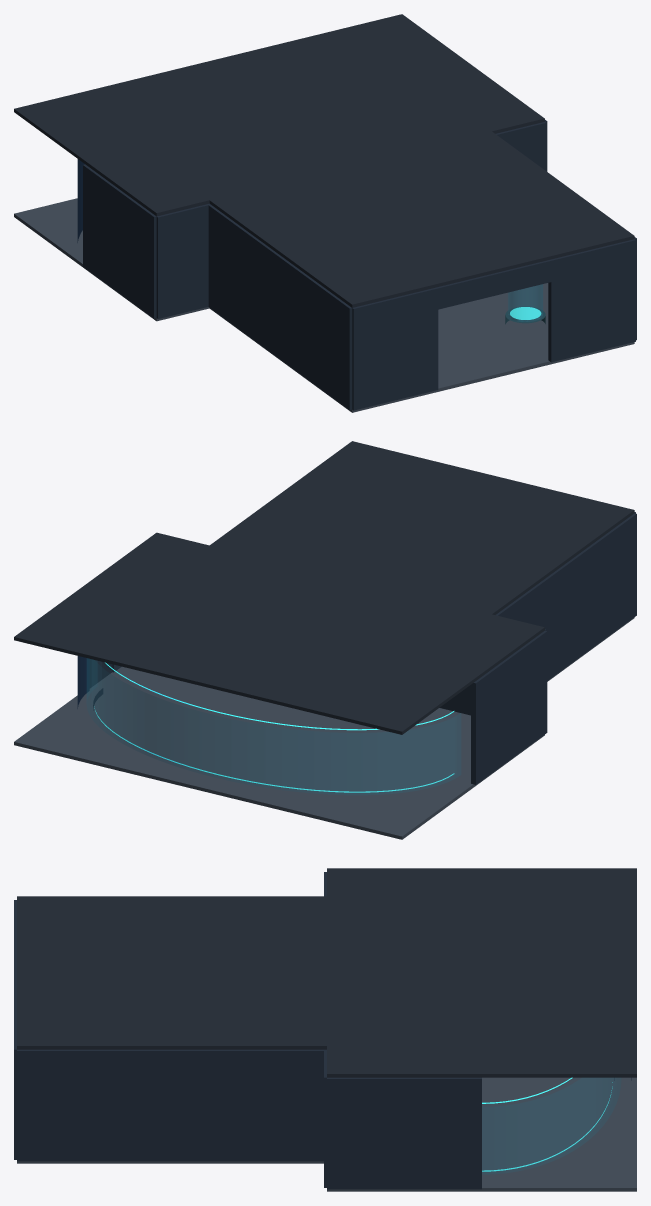
File: aquarium_jelly_basement.glb
3 views of the same model, one above another, from view 1: azimuth 30°, elevation 25°; view 2: azimuth 150°, elevation 25°; view 3: azimuth 270°, elevation 25° (orthographic). The views are drawn at different scales.
Visible parts, largest first — view 1: Ceiling, ReceptionWall, ReceptionFloor, TankWaterJellyCylinder; view 2: Ceiling, ReceptionFloor, TankWaterJellyCylinder, ReceptionWall, EmissiveJellyBlue; view 3: Ceiling, ReceptionWall, ReceptionFloor, TankWaterJellyCylinder.
Part boxes in pixels (left/top/right/bottom): Ceiling: left=14, top=14, right=634, bottom=307; ReceptionWall: left=83, top=120, right=636, bottom=410; ReceptionFloor: left=14, top=198, right=634, bottom=412; TankWaterJellyCylinder: left=508, top=284, right=542, bottom=321; Ceiling: left=14, top=441, right=634, bottom=734; ReceptionFloor: left=14, top=617, right=634, bottom=839; TankWaterJellyCylinder: left=87, top=658, right=460, bottom=794; ReceptionWall: left=89, top=512, right=636, bottom=784; EmissiveJellyBlue: left=94, top=662, right=454, bottom=792; Ceiling: left=17, top=868, right=636, bottom=1077; ReceptionWall: left=14, top=872, right=481, bottom=1189; ReceptionFloor: left=17, top=1077, right=636, bottom=1191; TankWaterJellyCylinder: left=482, top=1078, right=620, bottom=1173.
Size of the model in its own units: 22.28 by 5.86 by 28.14.
